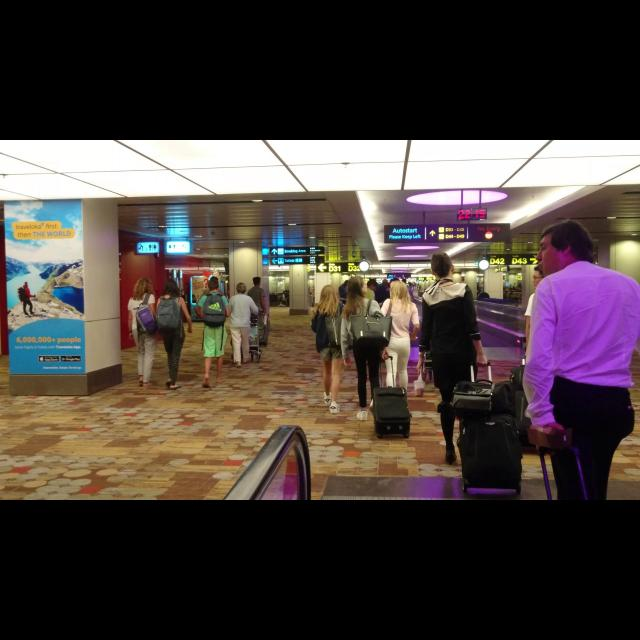head: (536, 223, 590, 280), (429, 251, 455, 279), (532, 264, 552, 292), (388, 280, 408, 300), (347, 276, 369, 294), (321, 285, 337, 301), (137, 277, 151, 293), (166, 280, 178, 294), (208, 281, 220, 291), (237, 282, 247, 294), (253, 277, 261, 287), (210, 278, 218, 286), (414, 283, 418, 287)
person: (414, 251, 496, 465), (519, 263, 587, 441), (336, 274, 392, 426), (378, 277, 420, 411), (310, 283, 350, 415), (154, 276, 194, 392), (194, 280, 233, 390), (126, 276, 160, 390), (224, 281, 262, 369), (196, 274, 228, 356), (246, 274, 270, 346), (410, 282, 420, 302)
